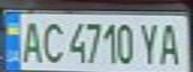0: (115, 20, 139, 65)
1: (100, 20, 118, 64)
4: (63, 18, 87, 64)
7: (81, 19, 103, 64)
A: (154, 19, 187, 66), (18, 17, 45, 64)
C: (39, 18, 66, 65)
Y: (136, 19, 163, 66)
